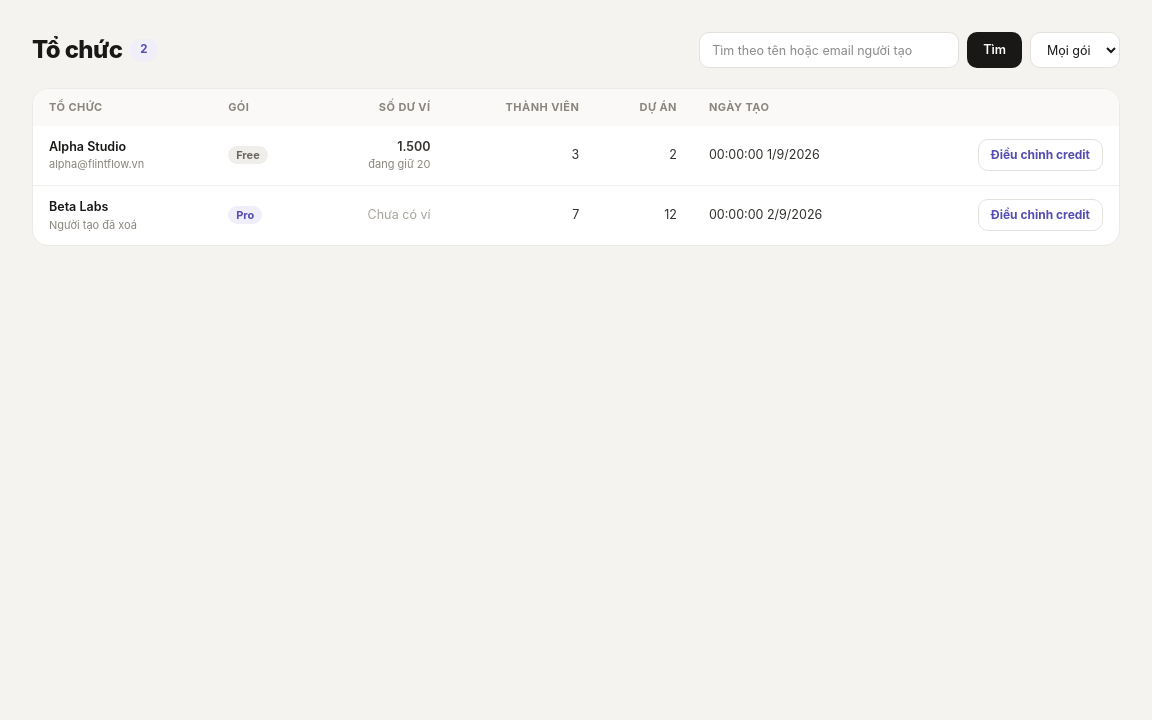
Test: AdminOrgsPage — UC-90 danh sách tổ chức › mở một tổ chức để điều chỉnh credit rồi cập nhật số dư trên dòng đó
Expected: the text "Alpha Studio" is shown, [49,138,126,154]
Click the button with aria-label "Điều chỉnh credit của Alpha Studio": (1040, 155) [978,139,1103,171]
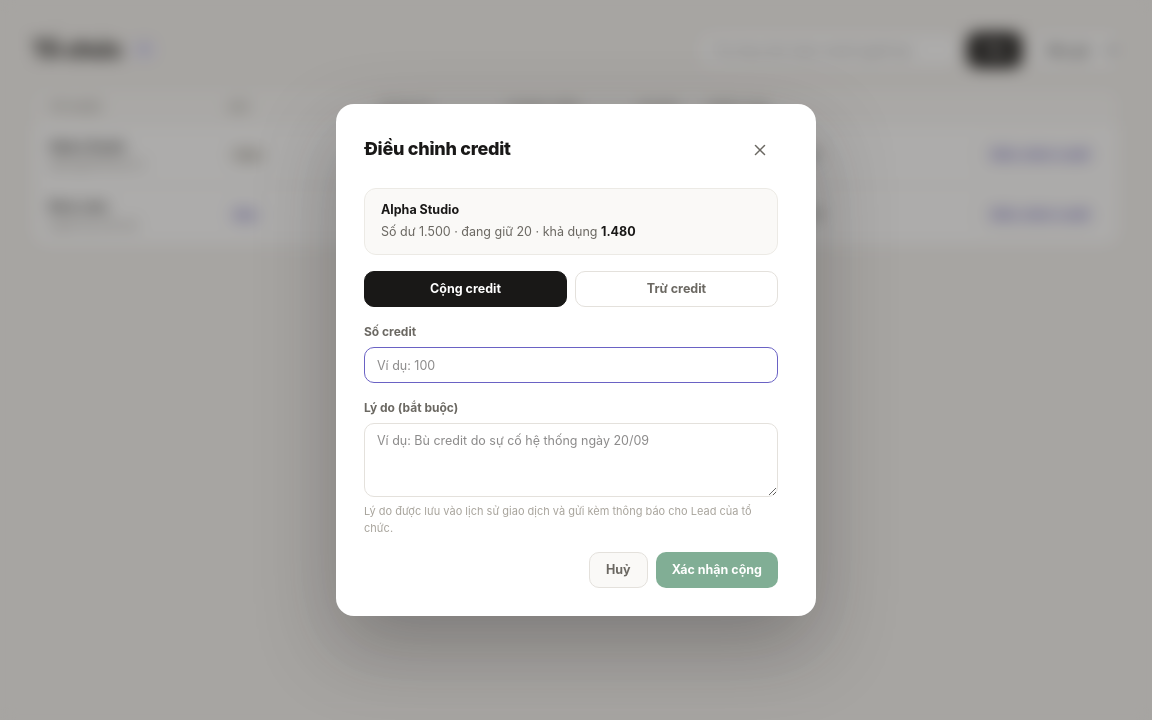
In the field labelled "Số credit": (571, 365) [364,347,778,383], type "100"
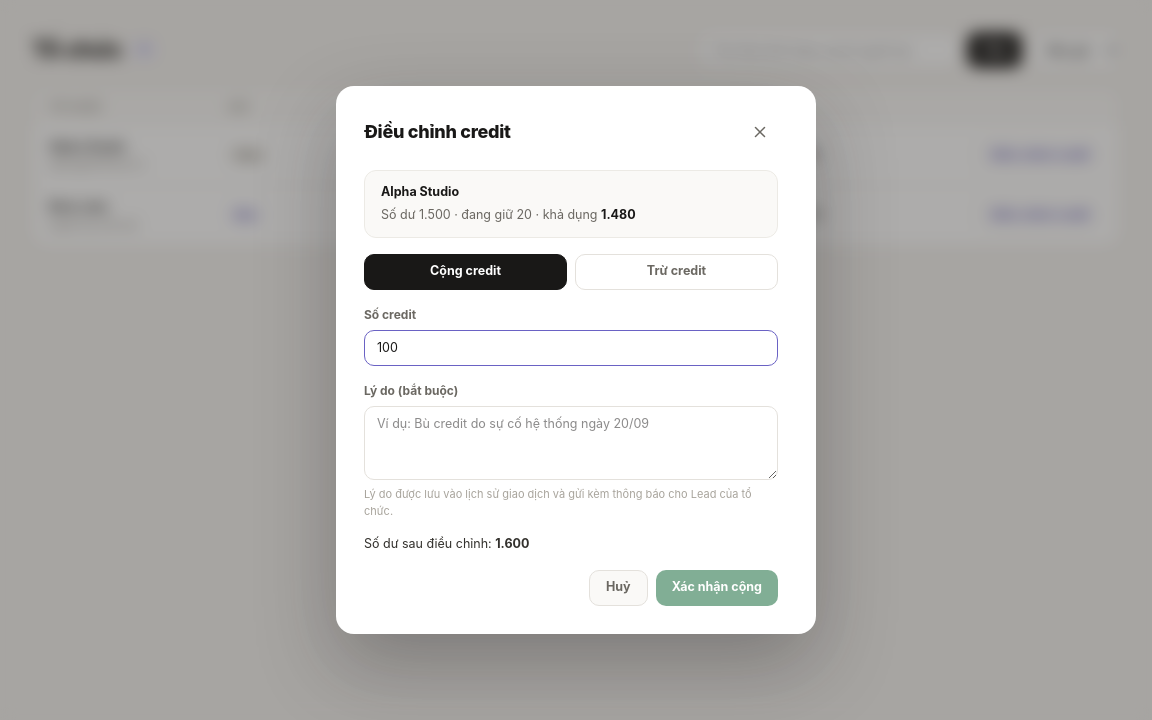
In the text box labelled "Lý do (bắt buộc)": (571, 443) [364,406,778,480], type "Bù sự cố"
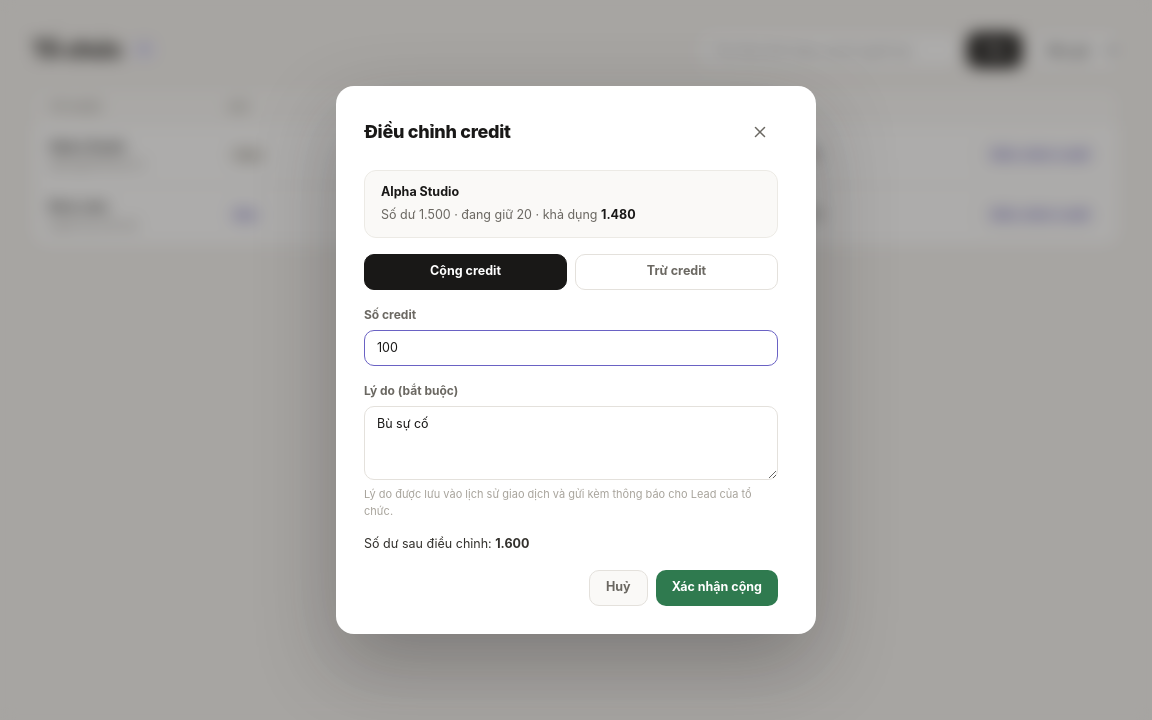
Click the button "Xác nhận cộng": (717, 588) [656,570,778,606]
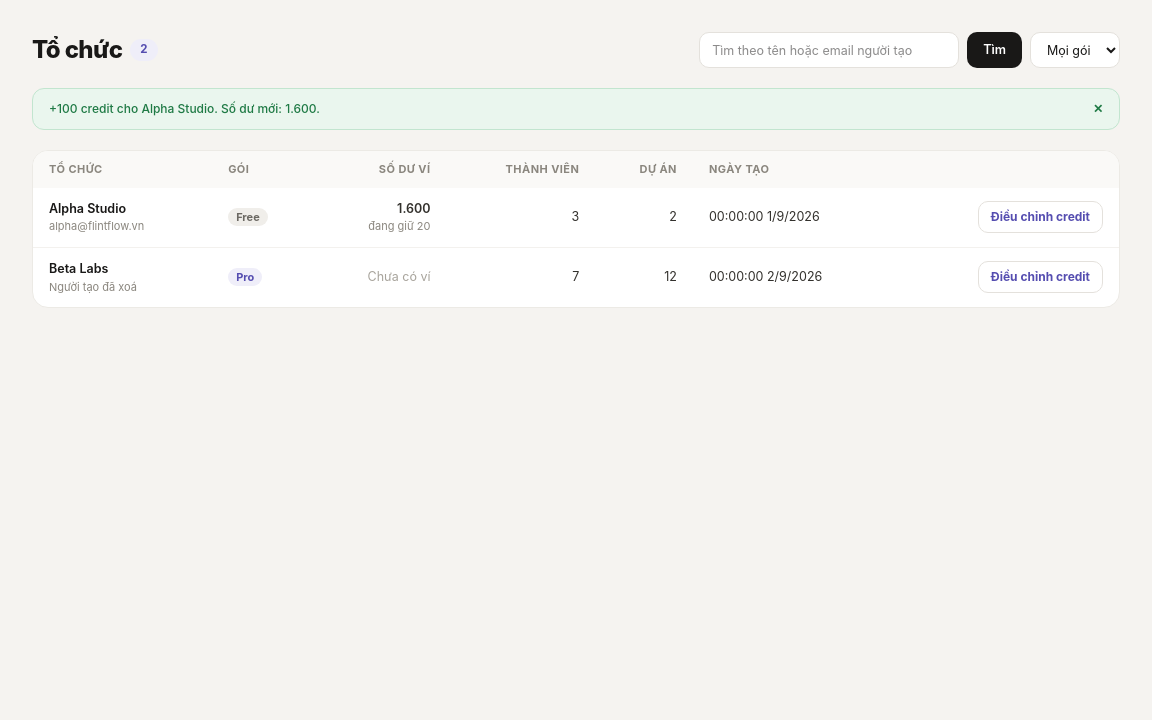
Expected: the dialog is gone
Expected: the text "1.600" is shown, [397,200,430,216]
Expected: the message shows "Số dư mới: 1.600", [49,101,320,116]
